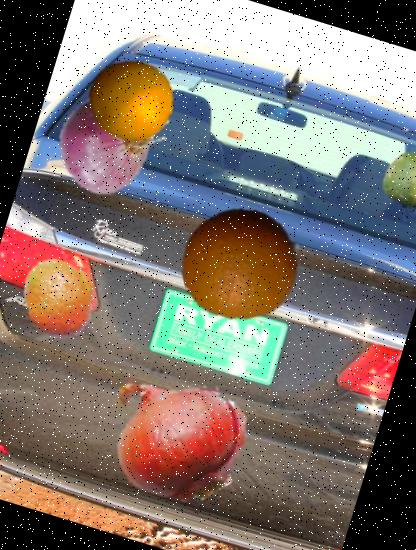Grapefruit: (78, 46, 184, 152)
Limes: (376, 143, 416, 215)
Mandarine: (7, 246, 112, 350)
Onion: (88, 342, 268, 522), (41, 61, 192, 213)
Orange: (166, 188, 316, 338)
